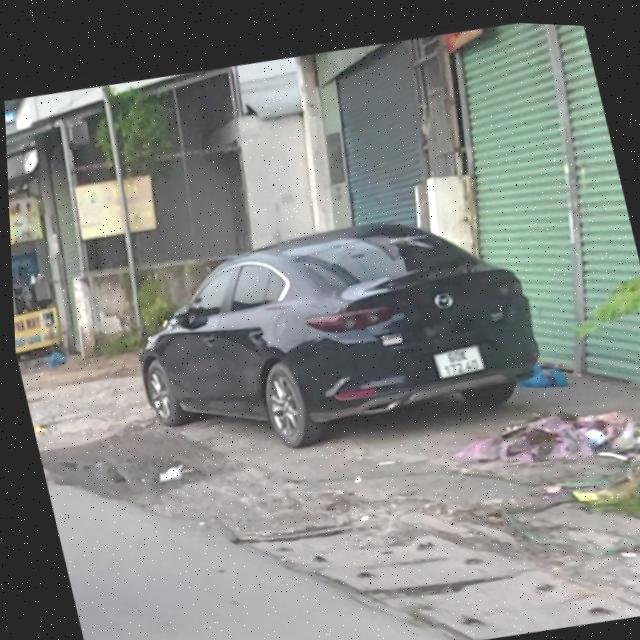car: (112, 184, 563, 497)
plate: (422, 330, 494, 390)
